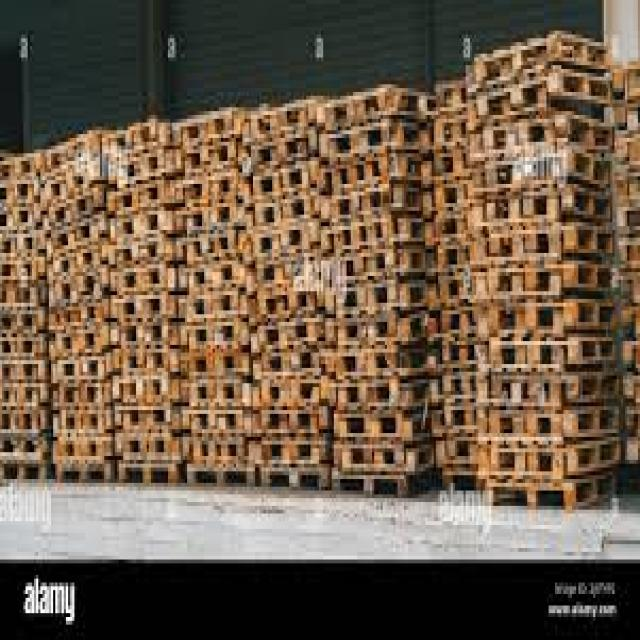Wooden-Pallets: (488, 478, 582, 513), (332, 470, 411, 504), (258, 466, 330, 498), (182, 461, 258, 491), (175, 111, 237, 140), (187, 321, 246, 348), (117, 458, 175, 484), (50, 464, 109, 486)
